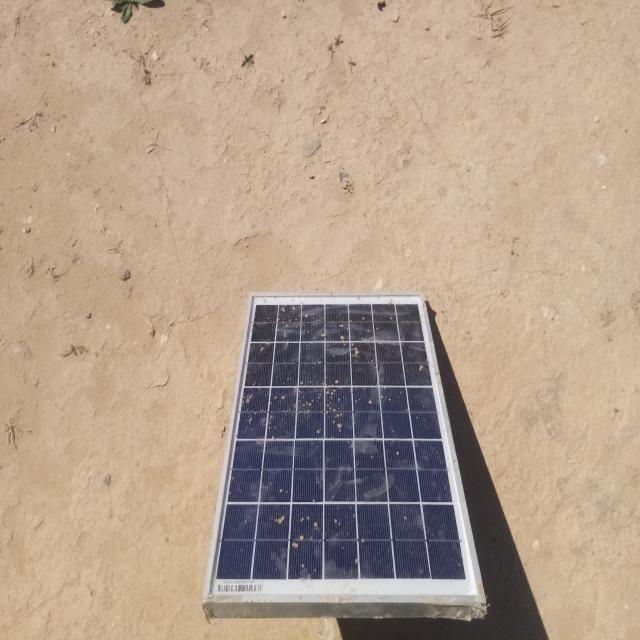faulty: (208, 295, 483, 605)
